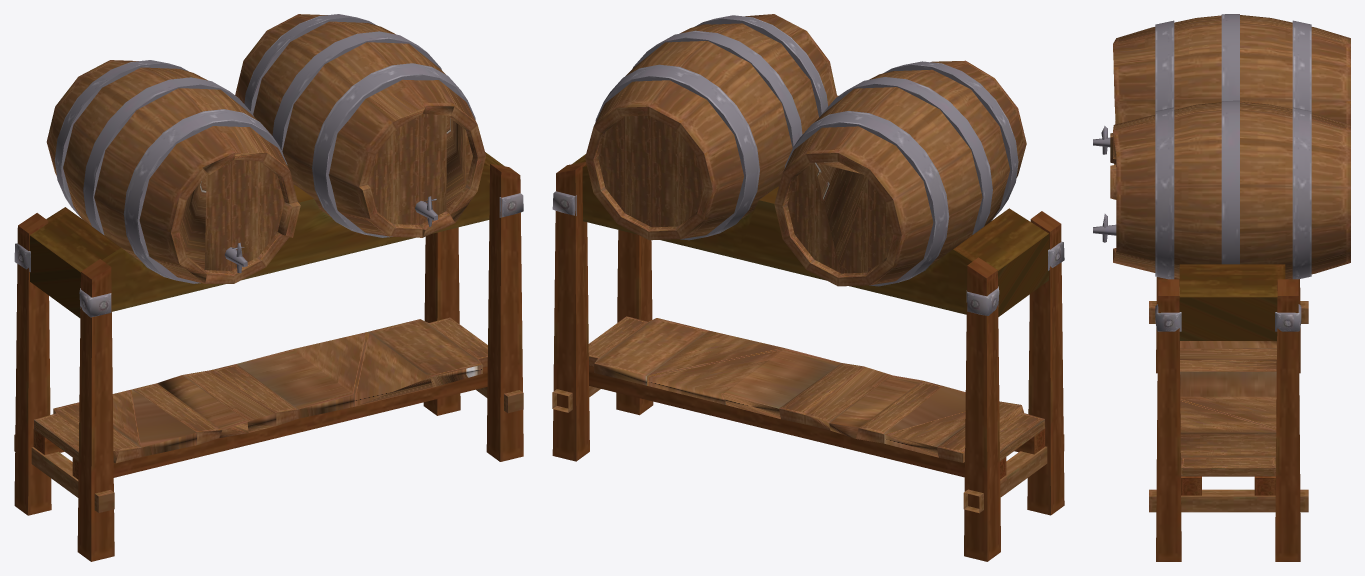
File: Barrel_Holder.gltf
The picture shows the model from 3 angles, left to right: view 1: azimuth 30°, elevation 25°; view 2: azimuth 150°, elevation 25°; view 3: azimuth 270°, elevation 25°; orthographic projection. The views are drawn at different scales.
Parts seen in each view (by area): view 1: Barrel_Holder; view 2: Barrel_Holder; view 3: Barrel_Holder.
Boxes of the visible parts, box(x1,y1,x2,y2) form: Barrel_Holder: box(14, 14, 523, 561); Barrel_Holder: box(552, 14, 1064, 561); Barrel_Holder: box(1093, 14, 1350, 561).
Bounding box in the file's own units: 1.36 × 1.26 × 0.741.
2 materials, 2 textured.
